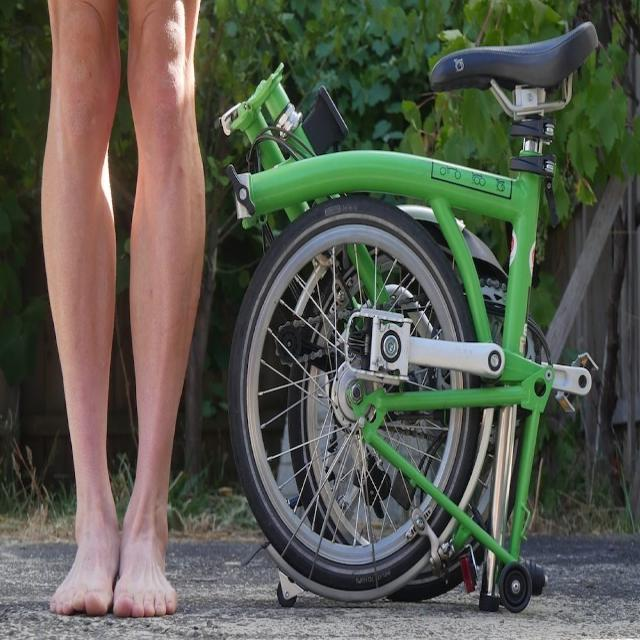folding-bike: (218, 21, 601, 616)
